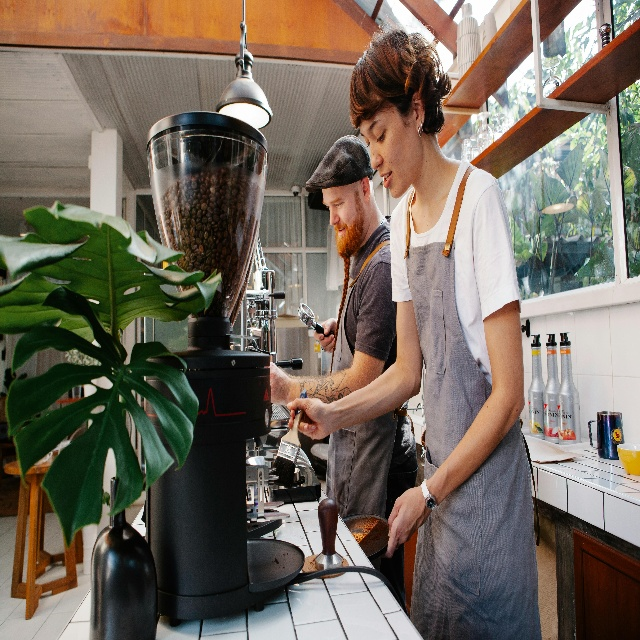Sin_guantes: (379, 485, 431, 560), (287, 397, 329, 441), (313, 317, 337, 354), (269, 361, 289, 405)
